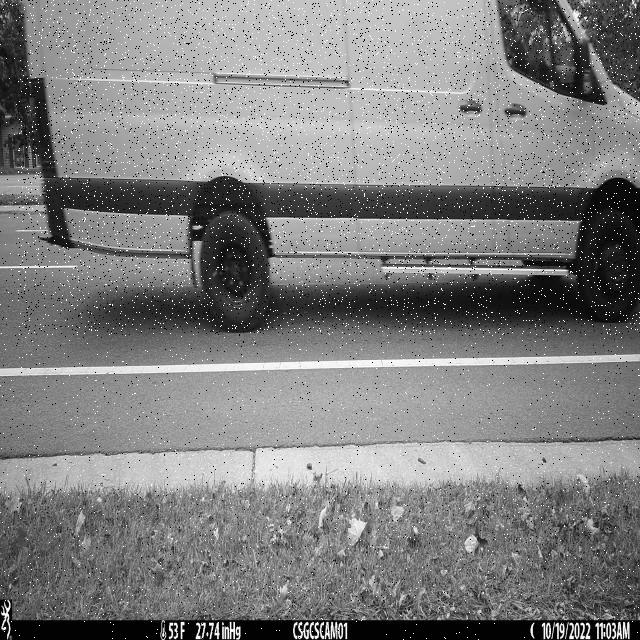Van: (18, 0, 640, 335)
